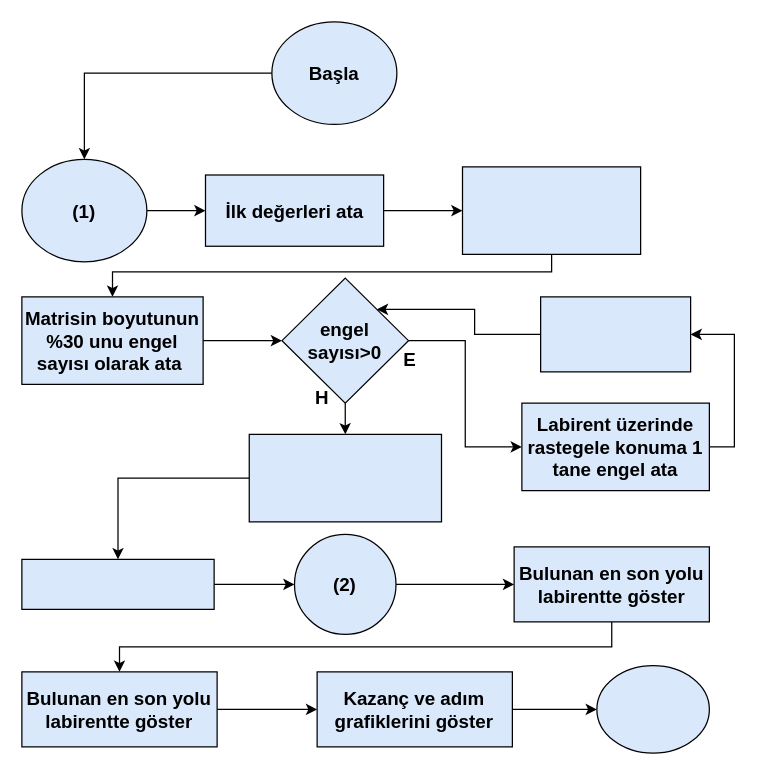
Image size: 766x775. Some labels were removed from this diagram. The shapes that lost their labels are listed below. From the top down, each one's centre as x and y in pixels, then its label:
At point (551, 210): "Başlangıç bitiş noktalarını değişkene kayıt et".
At point (615, 334): "Engel sayısını 1 azalt".
At point (345, 477): "Başlangıç ve bitiş konumlarını oluşturulan labirente ata".
At point (117, 583): "Q Tablosunu oluştur".
At point (652, 708): "Bitir".
